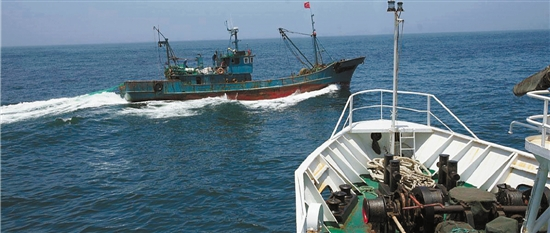otherboat: (116, 10, 361, 106)
